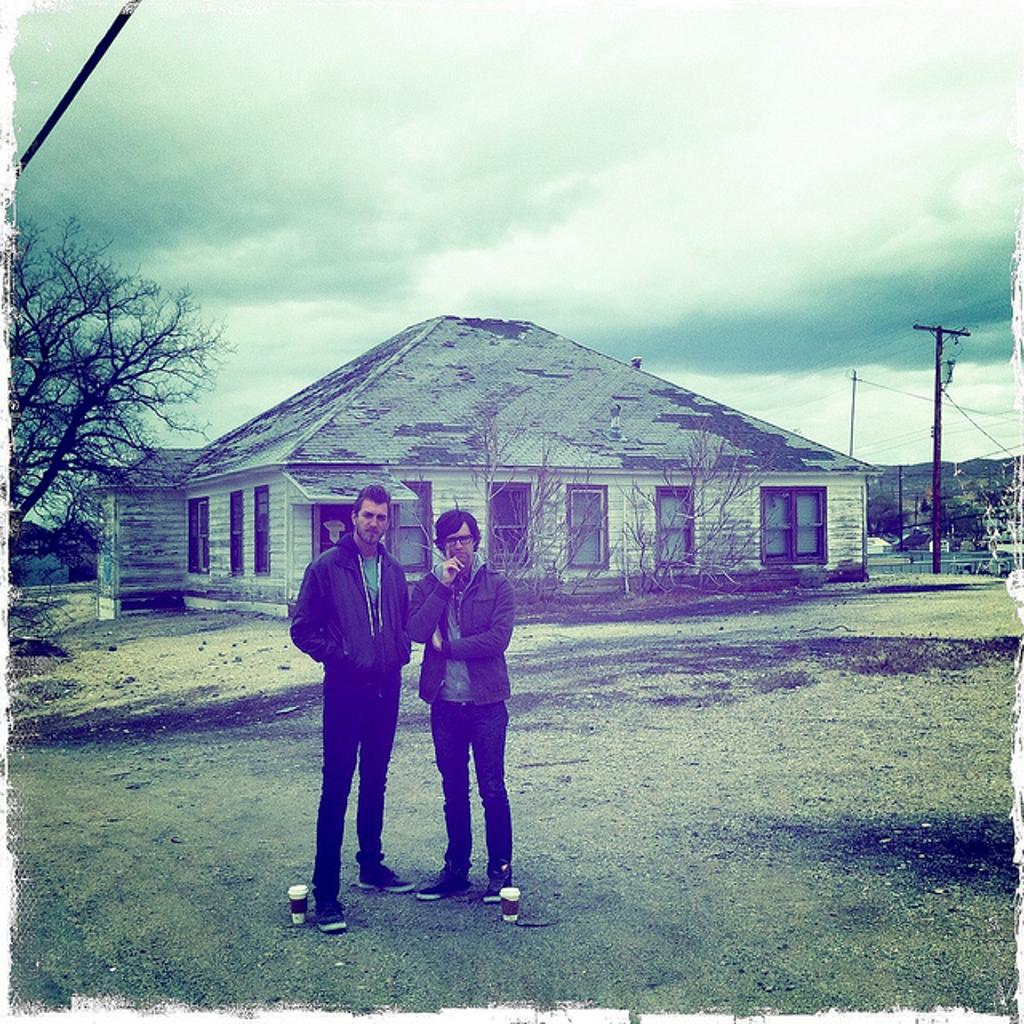face: (357, 498, 387, 543), (443, 524, 472, 564)
